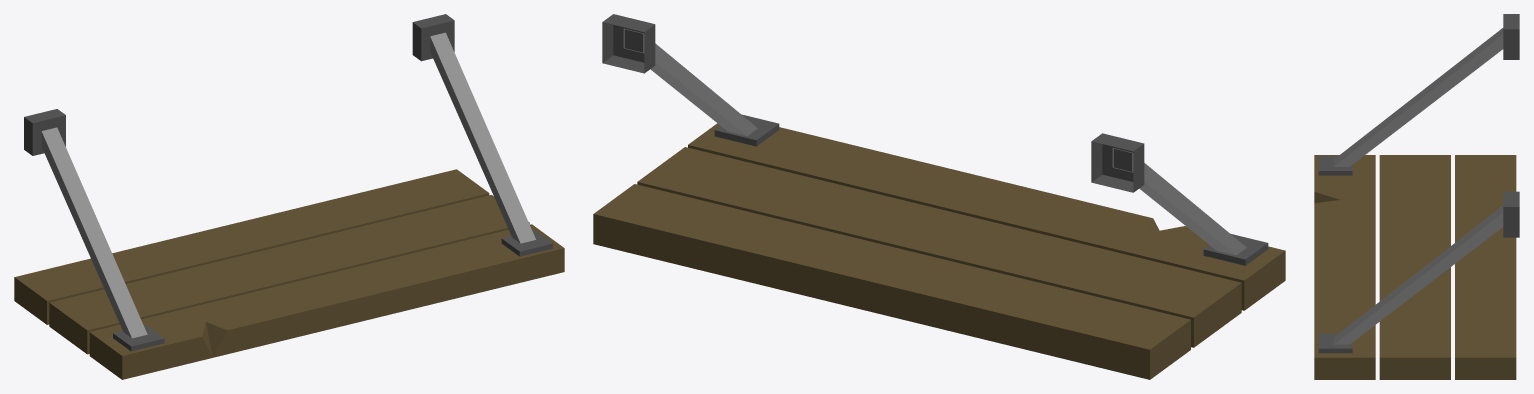
File: Prison Bed 01.FBX
3 renders of one model, left to right at view 1: azimuth 30°, elevation 25°; view 2: azimuth 150°, elevation 25°; view 3: azimuth 270°, elevation 25°, orthographic. The views are drawn at different scales.
Visible parts, largest first — view 1: Prison Bed 01; view 2: Prison Bed 01; view 3: Prison Bed 01.
Boxes of the visible parts, box(x1,y1,x2,y2) form: Prison Bed 01: box(14, 14, 564, 379); Prison Bed 01: box(593, 14, 1285, 379); Prison Bed 01: box(1314, 14, 1519, 379).
Bounding box in the file's own units: 233 × 90.66 × 99.96.
